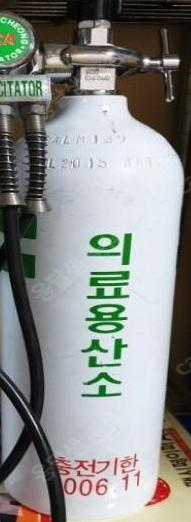cylinder: (1, 1, 191, 522)
